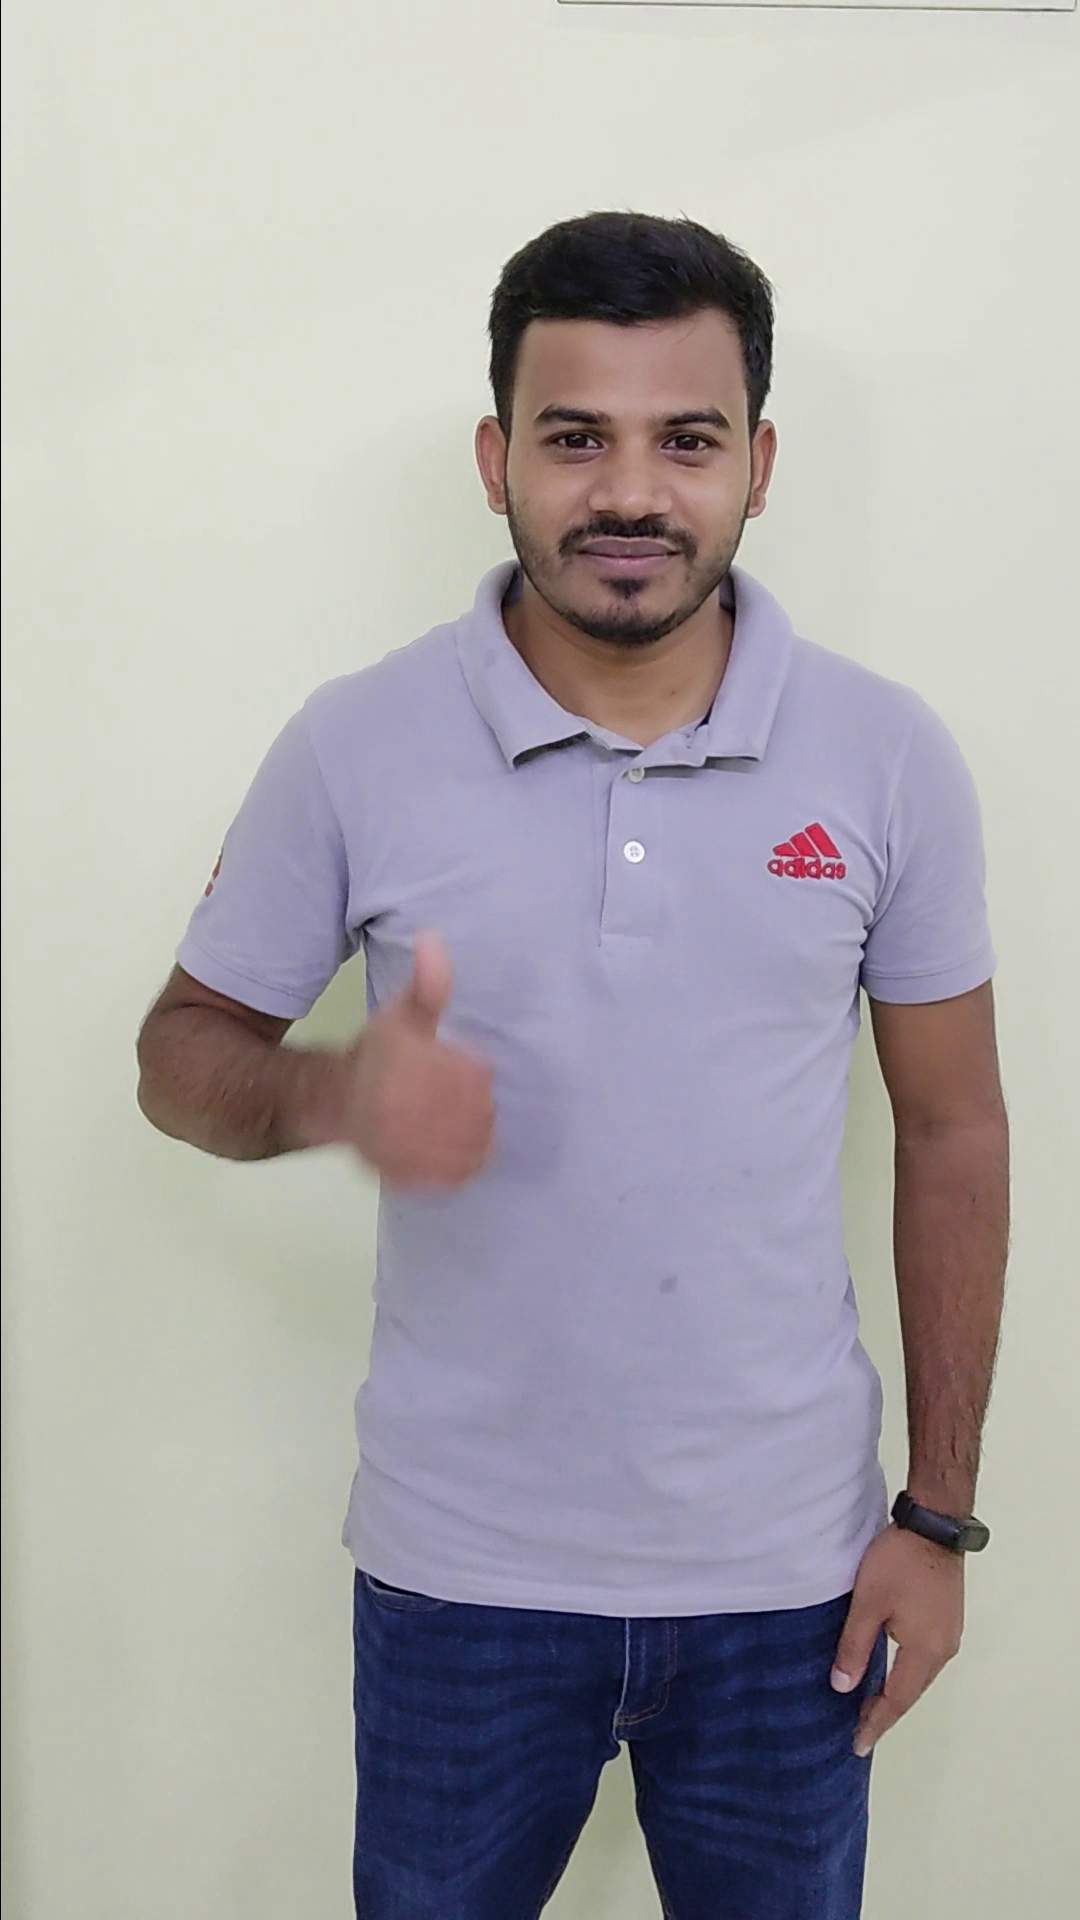Like: (294, 919, 518, 1209)
None: (796, 1472, 1004, 1778)
